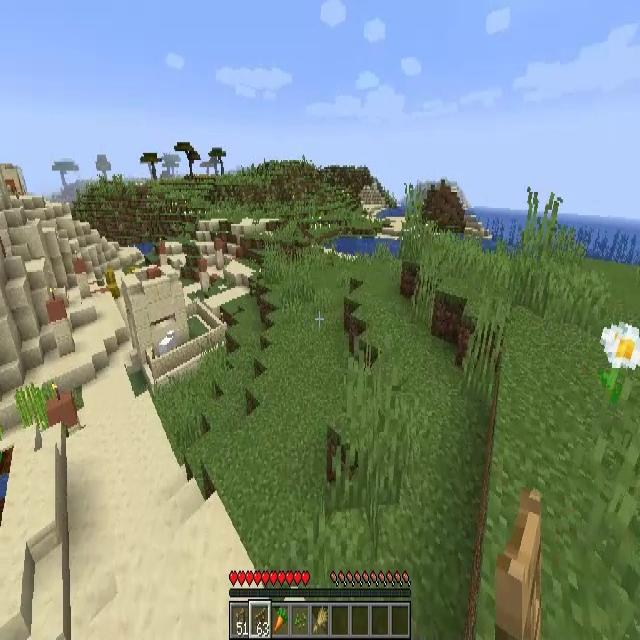flower: (601, 322, 640, 396)
sheep: (158, 331, 176, 356)
